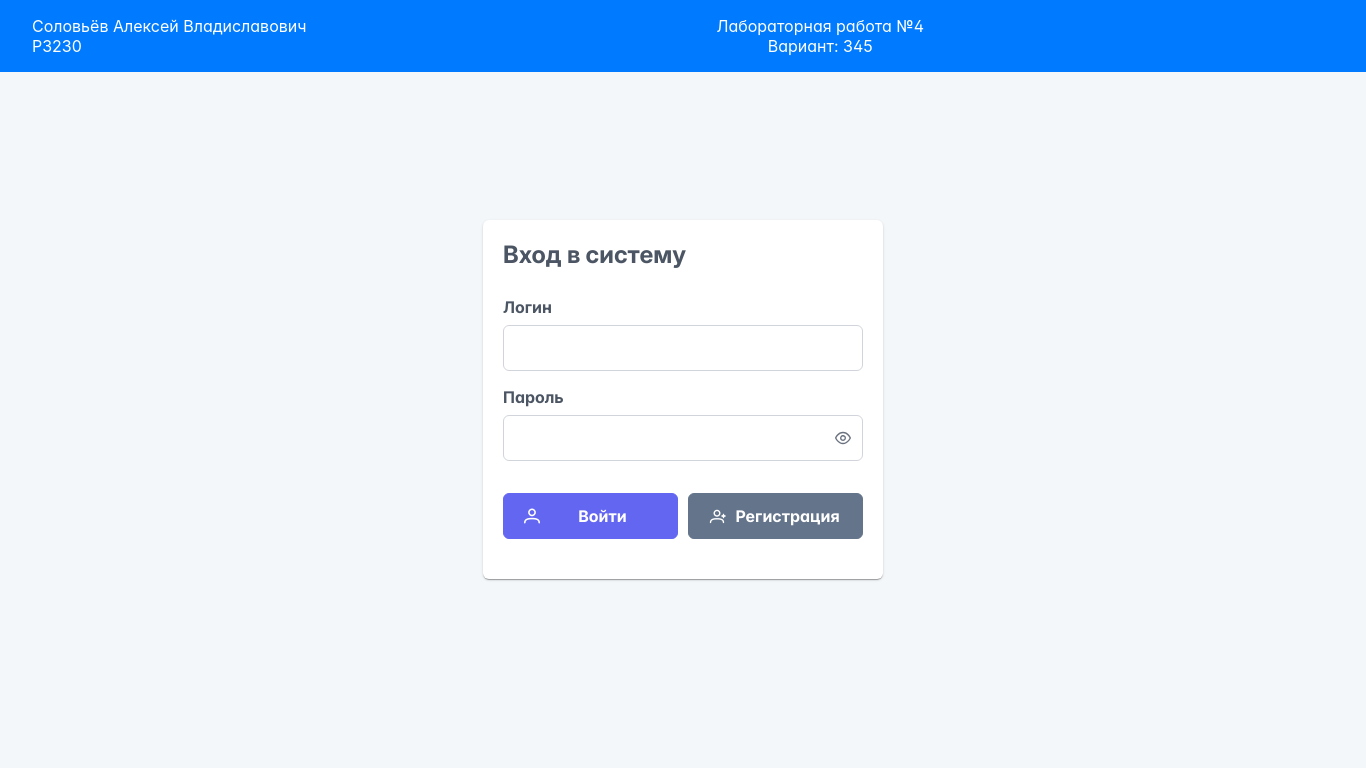
lab4 - func tests › 3: reg empty fields
The image size is (1366, 768).
Click the button "Регистрация": (776,516) [688,493,863,539]
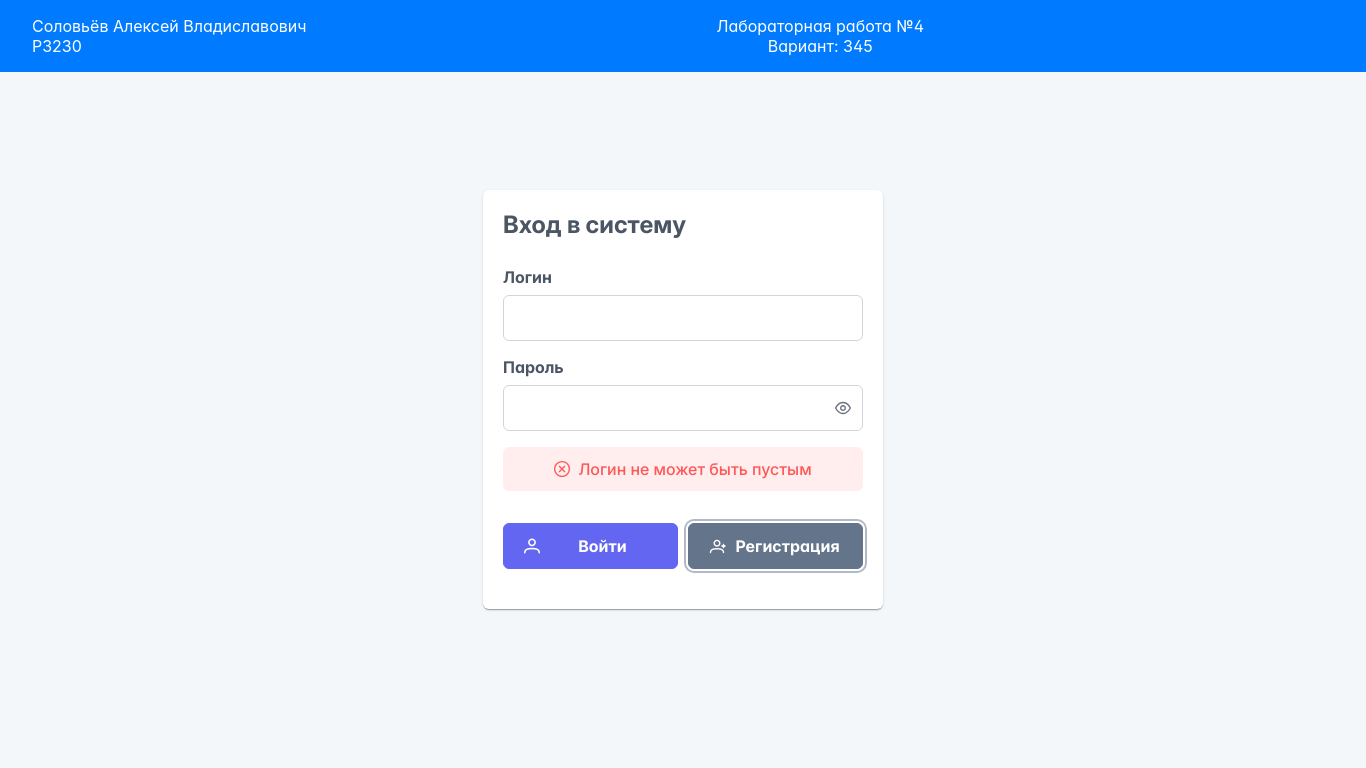
Check: the text "Логин не может быть пустым" is shown, box [578,459,812,479]
